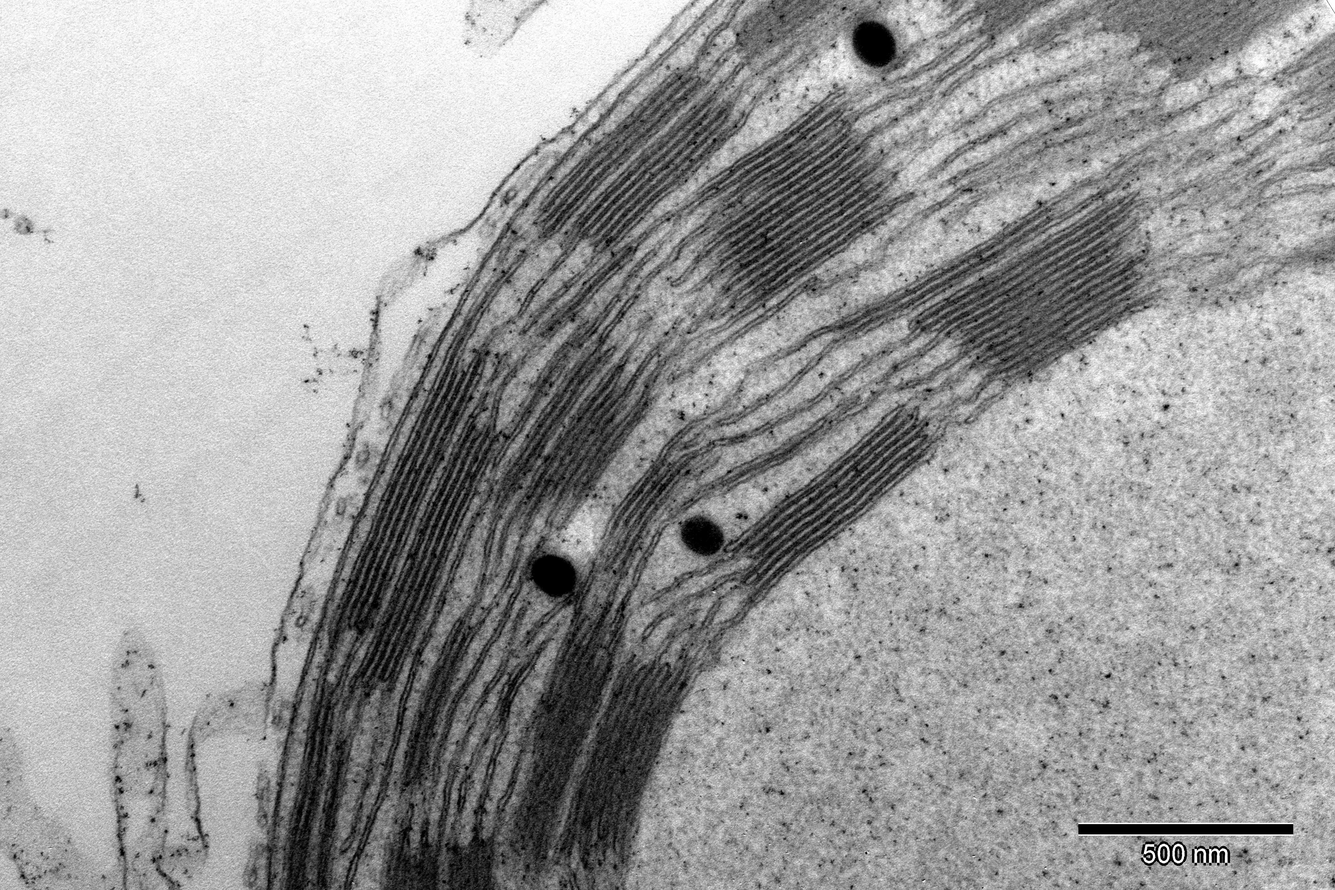granum: (906, 190, 1162, 389), (693, 86, 903, 315), (327, 363, 482, 642), (722, 403, 941, 600), (352, 419, 508, 691), (570, 79, 753, 257), (837, 199, 1058, 342), (557, 649, 696, 876), (507, 608, 625, 874), (533, 64, 711, 238), (1024, 1, 1324, 86), (526, 370, 658, 503), (399, 617, 482, 789), (506, 347, 612, 479), (591, 456, 692, 580), (278, 694, 340, 889), (734, 0, 836, 67), (377, 827, 440, 889), (971, 0, 1062, 36), (444, 835, 501, 890)
